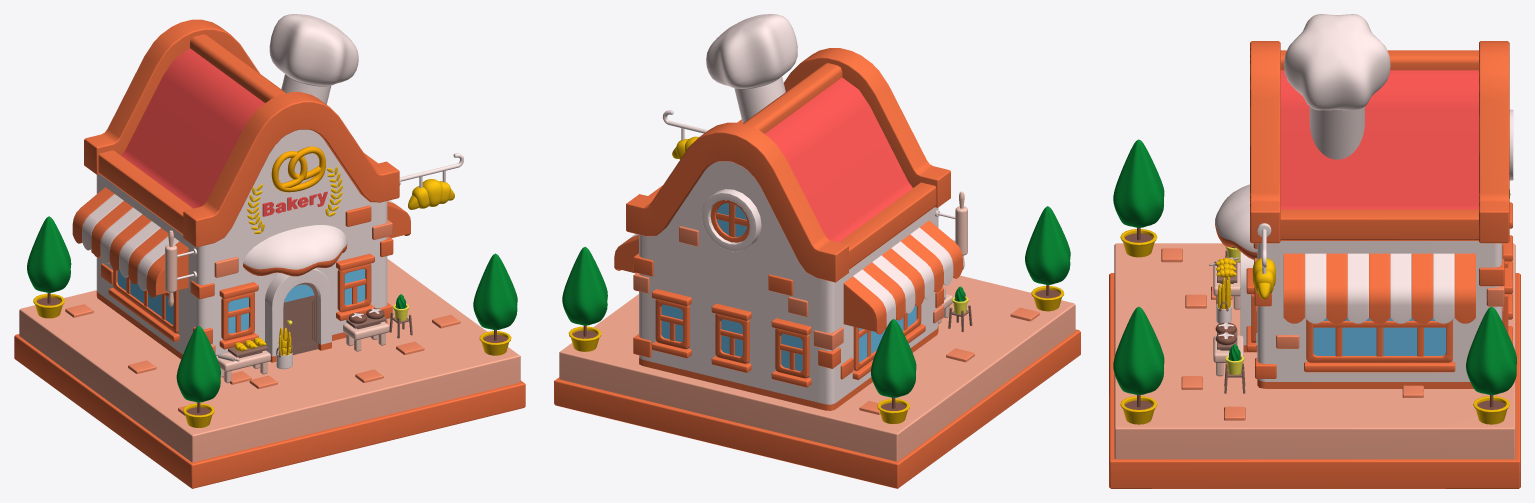
Rendered from Store_Island_3.glb.
The picture shows the model from 3 angles, left to right: view 1: azimuth 30°, elevation 25°; view 2: azimuth 150°, elevation 25°; view 3: azimuth 270°, elevation 25°; orthographic projection. The views are drawn at different scales.
Parts seen in each view (by area): view 1: Store_3_Bakery_1, Store_3_Base_1, Store_3_Sign_Chefs_hat_1, Store_3_Tree_2, Store_3_Tree_3, Store_3_Tree_1, Store_3_Sign_Croissant_1, Store_3_Sign_Rolling_Pin_1, Store_3_Table_2, Store_3_Table_1, Store_3_Plant_on_Stand_1; view 2: Store_3_Bakery_1, Store_3_Base_1, Store_3_Sign_Chefs_hat_1, Store_3_Tree_4, Store_3_Tree_2, Store_3_Tree_1, Store_3_Sign_Rolling_Pin_1, Store_3_Sign_Croissant_1, Store_3_Plant_on_Stand_2; view 3: Store_3_Bakery_1, Store_3_Base_1, Store_3_Sign_Chefs_hat_1, Store_3_Tree_3, Store_3_Tree_2, Store_3_Tree_4, Store_3_Sign_Croissant_1, Store_3_Plant_on_Stand_1, Store_3_Table_2, Store_3_Table_1.
Boxes of the visible parts, left/top/right/bottom form: Store_3_Bakery_1: left=72, top=19, right=410, bottom=362; Store_3_Base_1: left=14, top=259, right=525, bottom=488; Store_3_Sign_Chefs_hat_1: left=269, top=14, right=358, bottom=104; Store_3_Tree_2: left=176, top=326, right=220, bottom=427; Store_3_Tree_3: left=473, top=253, right=517, bottom=355; Store_3_Tree_1: left=27, top=216, right=71, bottom=318; Store_3_Sign_Croissant_1: left=399, top=153, right=463, bottom=209; Store_3_Sign_Rolling_Pin_1: left=165, top=230, right=197, bottom=306; Store_3_Table_2: left=216, top=350, right=270, bottom=383; Store_3_Table_1: left=343, top=321, right=389, bottom=351; Store_3_Plant_on_Stand_1: left=389, top=294, right=412, bottom=338; Store_3_Bakery_1: left=614, top=48, right=962, bottom=410; Store_3_Base_1: left=554, top=275, right=1080, bottom=488; Store_3_Sign_Chefs_hat_1: left=706, top=14, right=797, bottom=122; Store_3_Tree_4: left=562, top=247, right=607, bottom=351; Store_3_Tree_2: left=1025, top=206, right=1070, bottom=311; Store_3_Tree_1: left=871, top=319, right=916, bottom=424; Store_3_Sign_Rolling_Pin_1: left=935, top=191, right=967, bottom=269; Store_3_Sign_Croissant_1: left=662, top=110, right=707, bottom=159; Store_3_Plant_on_Stand_2: left=948, top=286, right=972, bottom=331; Store_3_Bakery_1: left=1215, top=41, right=1513, bottom=388; Store_3_Base_1: left=1109, top=243, right=1520, bottom=488; Store_3_Sign_Chefs_hat_1: left=1284, top=14, right=1390, bottom=159; Store_3_Tree_3: left=1113, top=306, right=1164, bottom=424; Store_3_Tree_2: left=1113, top=139, right=1164, bottom=257; Store_3_Tree_4: left=1466, top=306, right=1516, bottom=424; Store_3_Sign_Croissant_1: left=1252, top=223, right=1275, bottom=299; Store_3_Plant_on_Stand_1: left=1224, top=344, right=1245, bottom=393; Store_3_Table_2: left=1213, top=262, right=1240, bottom=309; Store_3_Table_1: left=1213, top=335, right=1243, bottom=376.
Bounding box in the file's own units: 11.08 × 10.83 × 10.06.
Materials: 29 (29 with a texture image).
